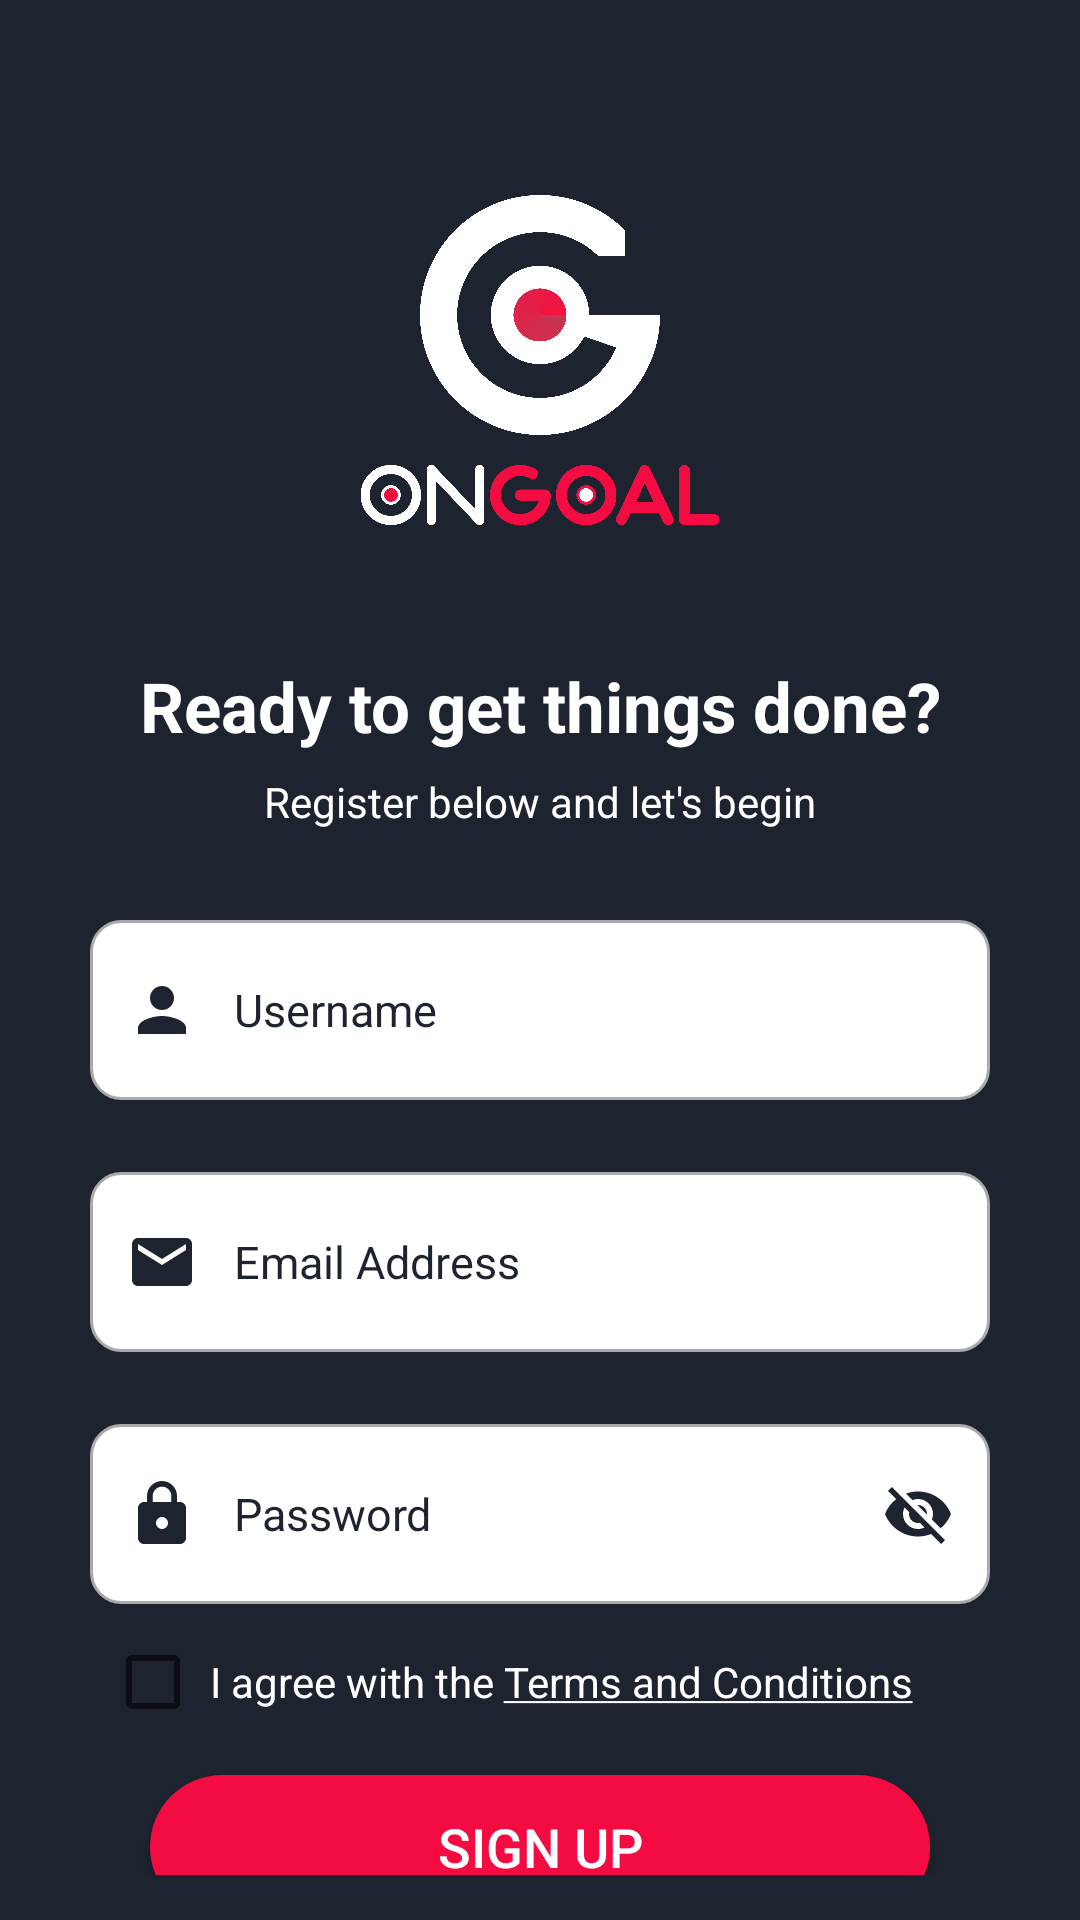

Where to tap for icons on this 1080x1920 app screen, as [x,y]:
visibility off: [918,1515]
